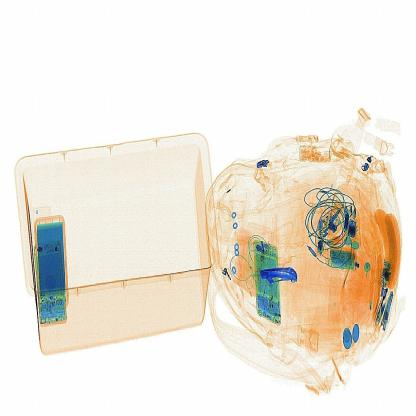knife: (252, 260, 306, 296)
